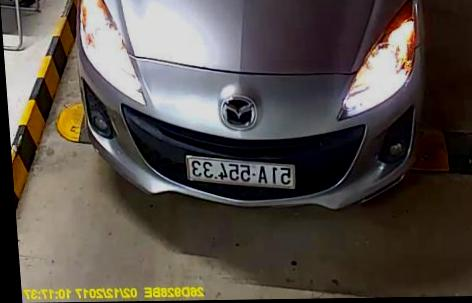License_Plate: (181, 154, 298, 190)
